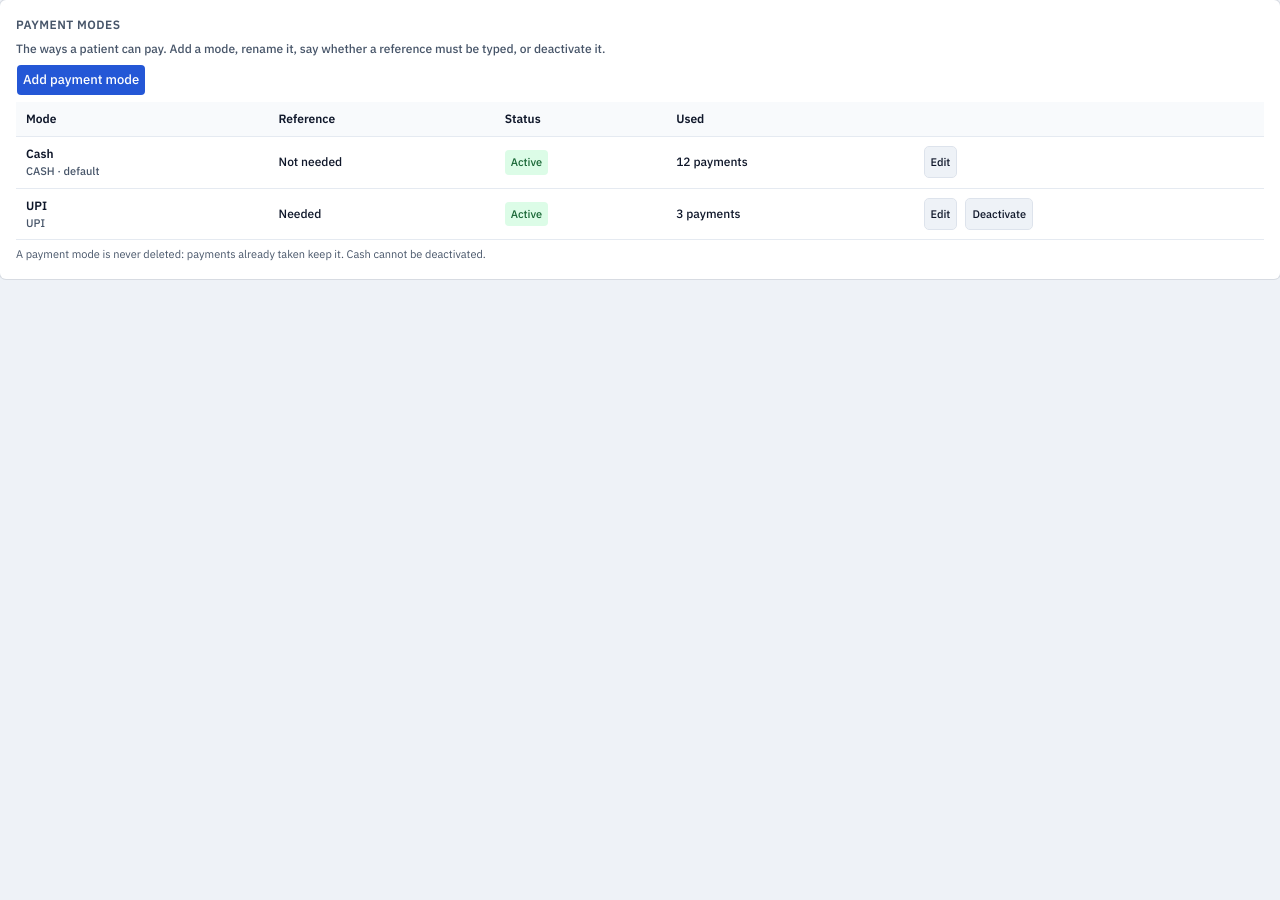
PaymentModesScreen › Edit shows the code as fixed and sends only the name and the reference flag
Step 1. Click the button "Edit" in the row of "3 payments" → (940, 214), box [924,198,957,230]
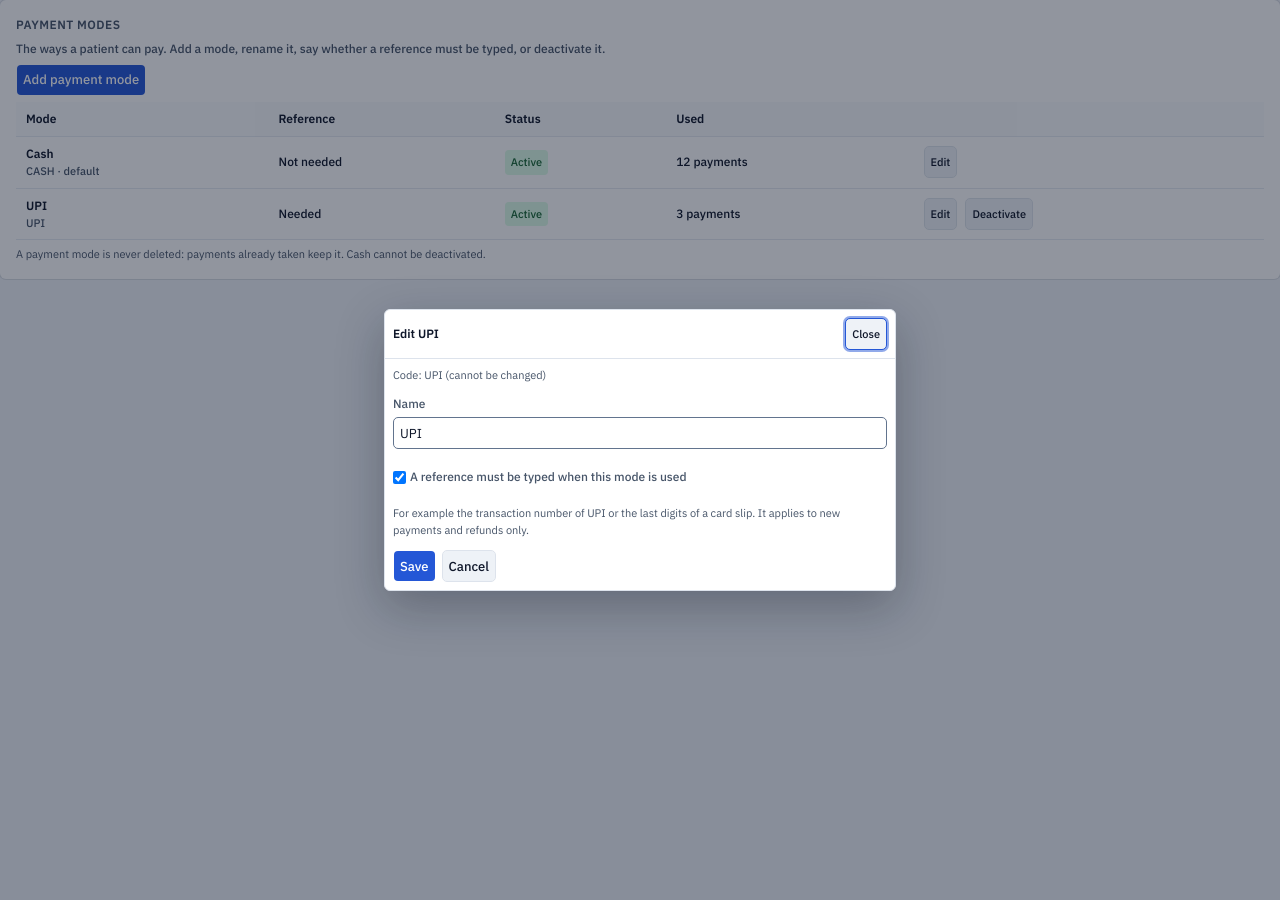
Step 2. Replace the text in the field labelled "Name" with "UPI payment" → (640, 433), box [393,417,887,449]
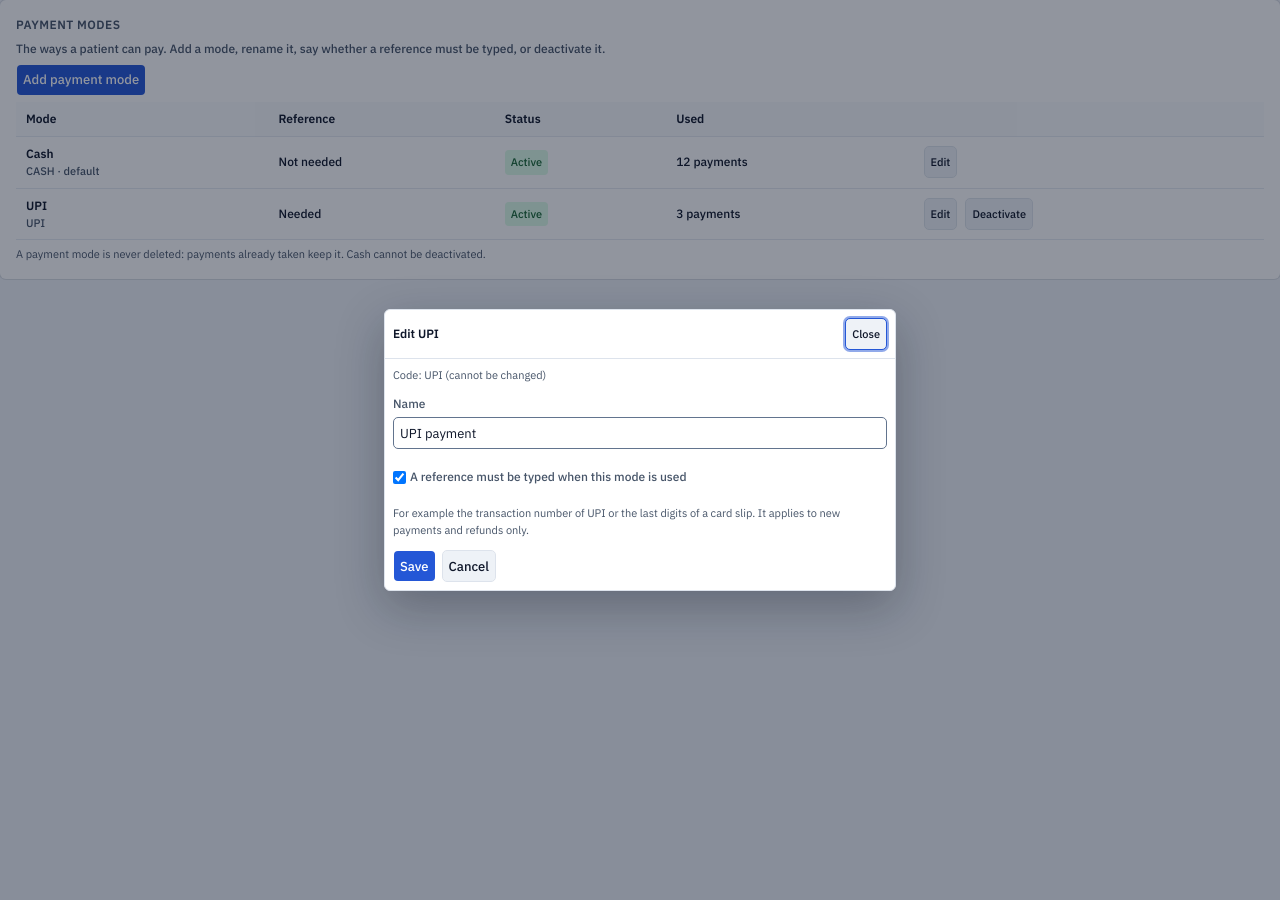
Step 3. Click the button "Save" → (414, 566), box [393,550,436,582]
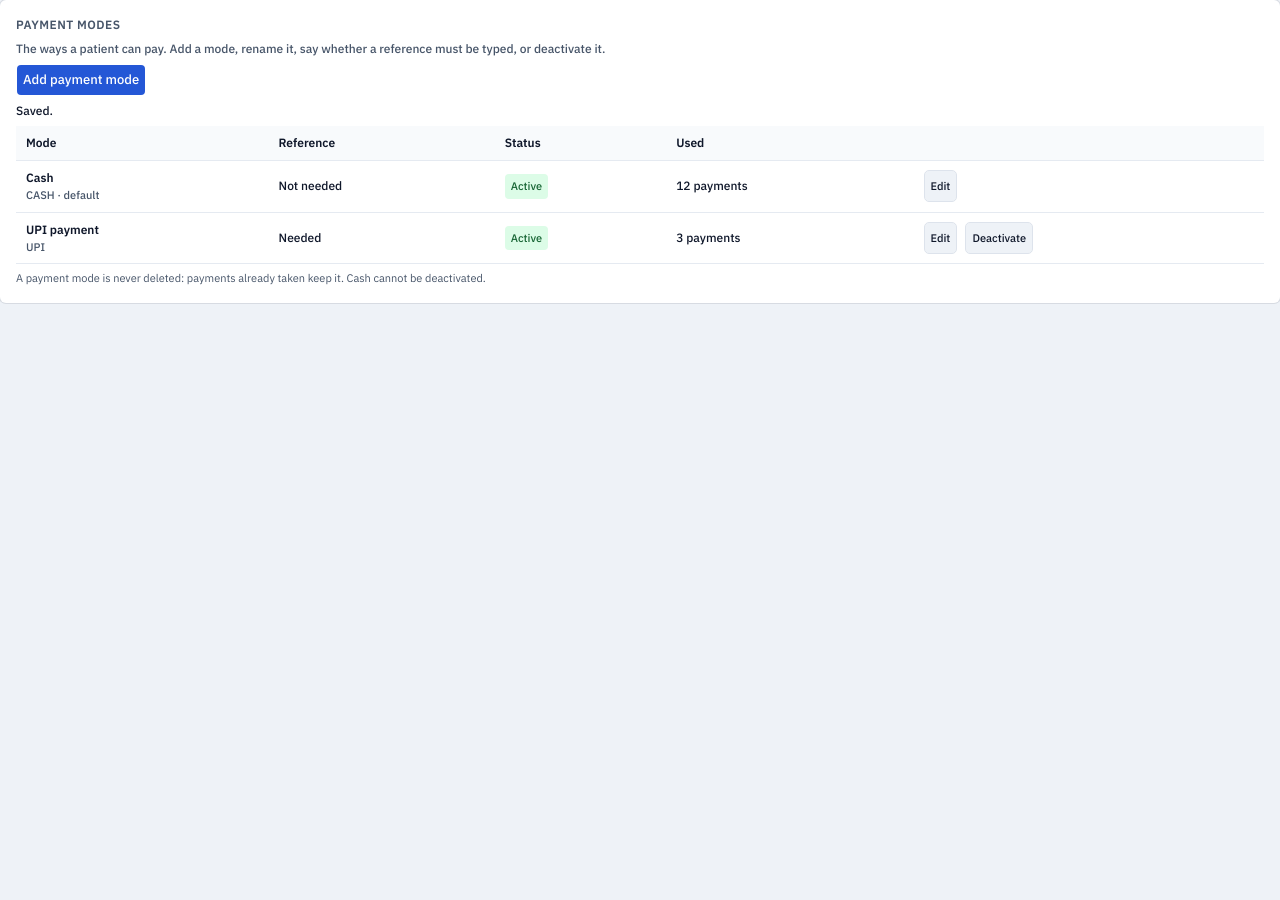
Expected: the text "Saved." is shown, [16,103,53,118]
Expected: the text "UPI payment" is shown, [26,222,99,236]
